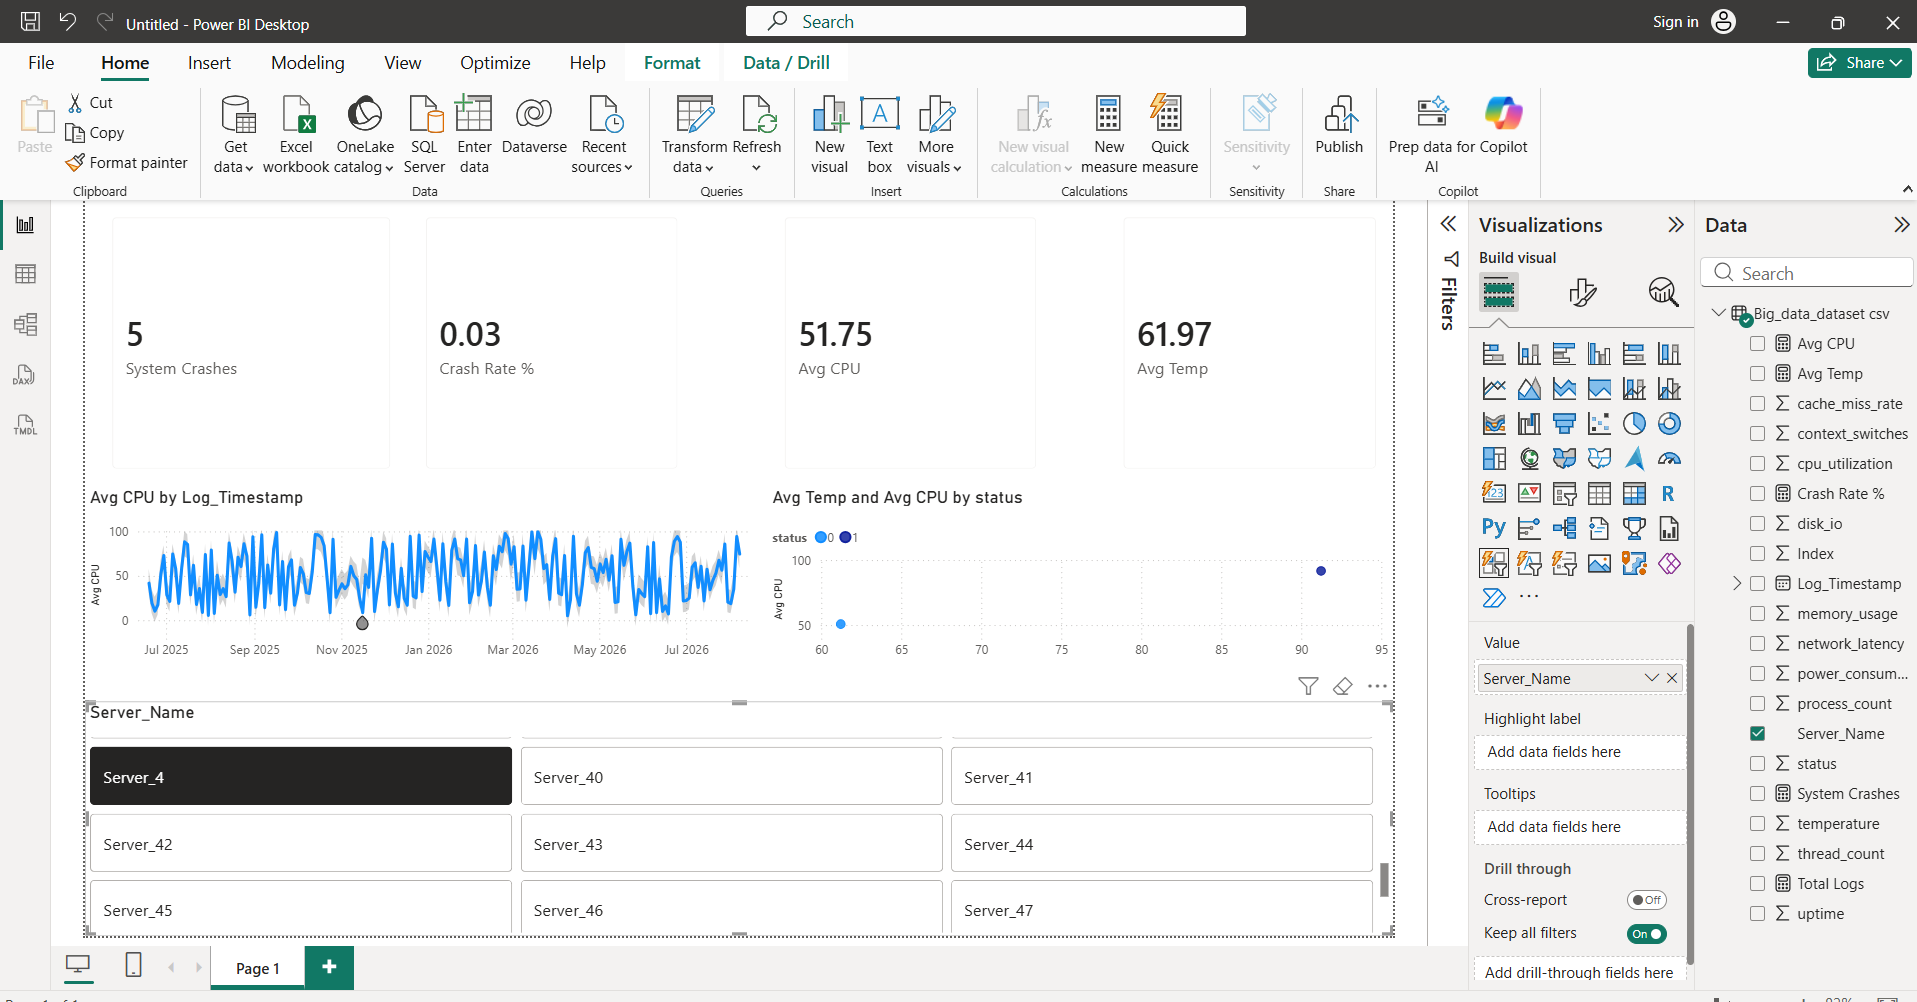

Layout of this report page (visuals, bound fields, positions):
{"tool":"powerbi","page":{"name":"Page 1","canvas":[1280,720],"ordinal":0},"visuals":[{"type":"cardVisual","fields":{"Data":["Big_data_dataset csv.System Crashes"]},"box":[9.8,0,306.9,280],"z":0},{"type":"cardVisual","fields":{"Data":["Big_data_dataset csv.Crash Rate %"]},"box":[316.7,0,280,280],"z":1000},{"type":"cardVisual","fields":{"Data":["Big_data_dataset csv.Avg CPU"]},"box":[667.7,0,280,280],"z":2000},{"type":"cardVisual","fields":{"Data":["Big_data_dataset csv.Avg Temp"]},"box":[999.1,0,281.3,280],"z":3000},{"type":"lineChart","fields":{"Category":["Big_data_dataset csv.Log_Timestamp"],"Y":["Big_data_dataset csv.Avg CPU"]},"box":[0,280,667.7,178.5],"z":4001},{"type":"scatterChart","fields":{"X":["Big_data_dataset csv.Avg Temp"],"Y":["Big_data_dataset csv.Avg CPU"],"Series":["Big_data_dataset csv.status"]},"box":[667.7,280,612.6,178.5],"z":4002},{"type":"advancedSlicerVisual","fields":{"Values":["Big_data_dataset csv.Server_Name"]},"box":[0,490.4,1280.3,229.9],"z":4003}]}

Visuals, with their boxes on the page's 1280x720 design canvas (x1, y1, x2, y2). These are canvas units, not pixel positions in the 1917x1002 screenshot, which may show the page scaled, cropped or inside an application window:
cardVisual - Big_data_dataset csv.System Crashes: region(10, 0, 317, 280)
cardVisual - Big_data_dataset csv.Crash Rate %: region(317, 0, 597, 280)
cardVisual - Big_data_dataset csv.Avg CPU: region(668, 0, 948, 280)
cardVisual - Big_data_dataset csv.Avg Temp: region(999, 0, 1280, 280)
lineChart - Big_data_dataset csv.Log_Timestamp x Big_data_dataset csv.Avg CPU: region(0, 280, 668, 458)
scatterChart - Big_data_dataset csv.Avg Temp x Big_data_dataset csv.Avg CPU: region(668, 280, 1280, 458)
advancedSlicerVisual - Big_data_dataset csv.Server_Name: region(0, 490, 1280, 720)
